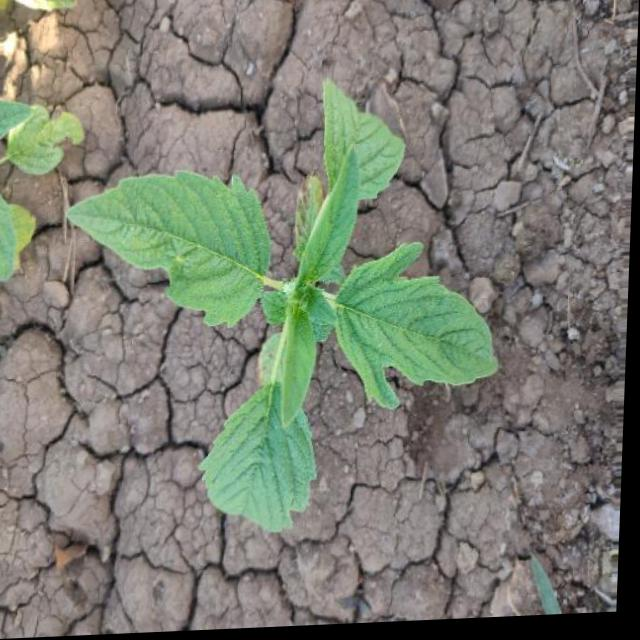crop: (49, 67, 537, 533)
